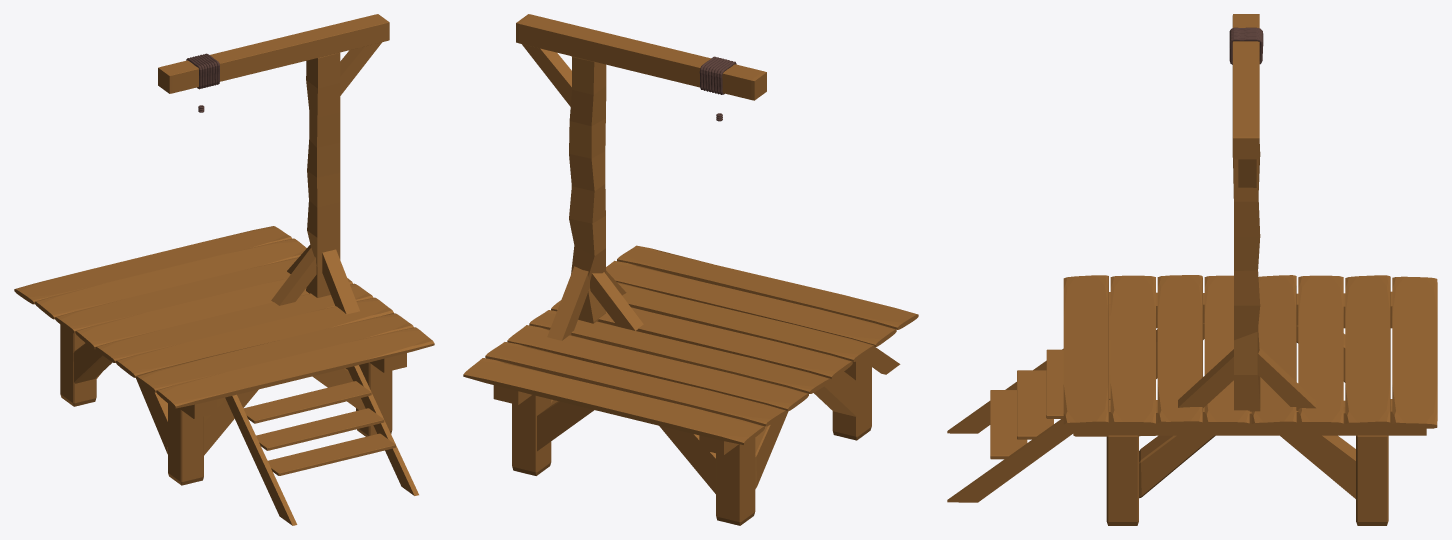
Rendered from Gantungan.fbx.
The picture shows the model from 3 angles, left to right: view 1: azimuth 30°, elevation 25°; view 2: azimuth 150°, elevation 25°; view 3: azimuth 270°, elevation 25°; orthographic projection. The views are drawn at different scales.
Visible parts, largest first — view 1: Cube.213; view 2: Cube.213; view 3: Cube.213.
Boxes of the visible parts, box(x1,y1,x2,y2) form: Cube.213: box(14, 14, 434, 525); Cube.213: box(463, 14, 918, 525); Cube.213: box(947, 14, 1437, 525).
Bounding box in the file's own units: 247 × 298 × 315.
